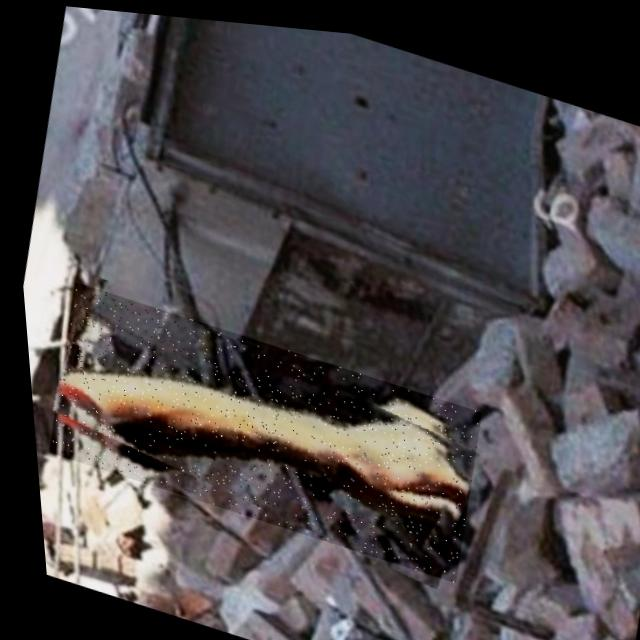Person in Rubble: (29, 276, 486, 577)
